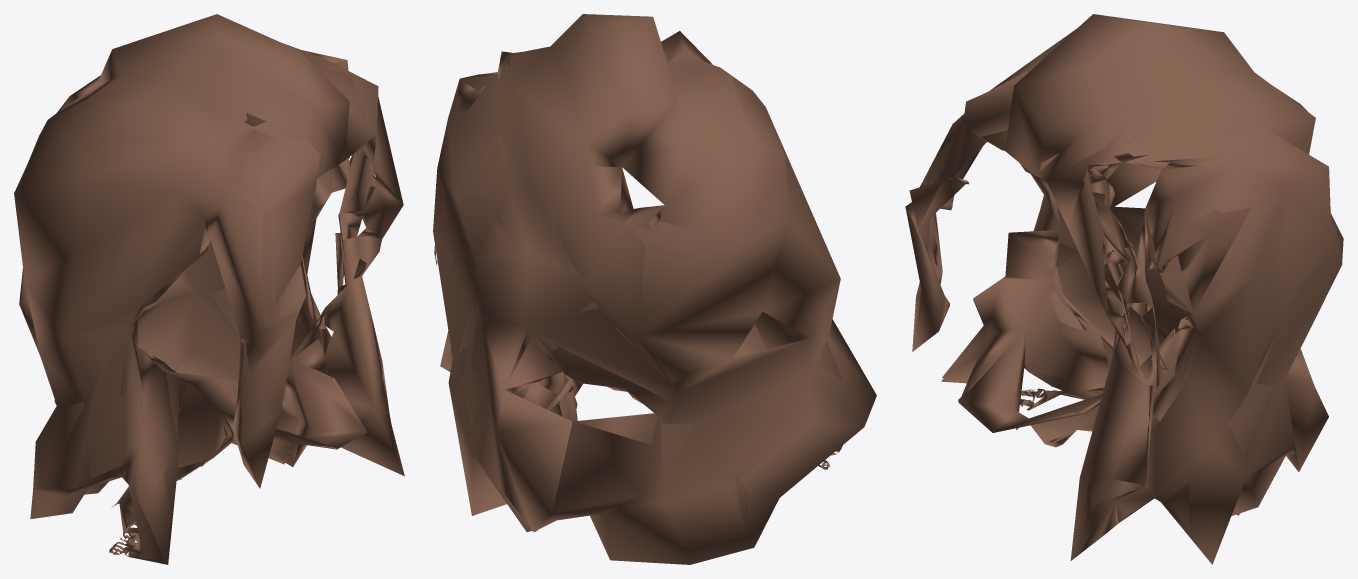
File: Hair_long_LOD2.glb
3 views of the same model, side by side, from view 1: azimuth 30°, elevation 25°; view 2: azimuth 150°, elevation 25°; view 3: azimuth 270°, elevation 25° (orthographic).
Parts seen in each view (by area): view 1: Hair_long_LOD2; view 2: Hair_long_LOD2; view 3: Hair_long_LOD2.
Boxes of the visible parts, x1,y1,x2,y2 form: Hair_long_LOD2: [14, 14, 404, 564]; Hair_long_LOD2: [433, 14, 876, 564]; Hair_long_LOD2: [905, 14, 1343, 564].
Size of the model in its own units: 0.3782 by 0.4612 by 0.3707.
